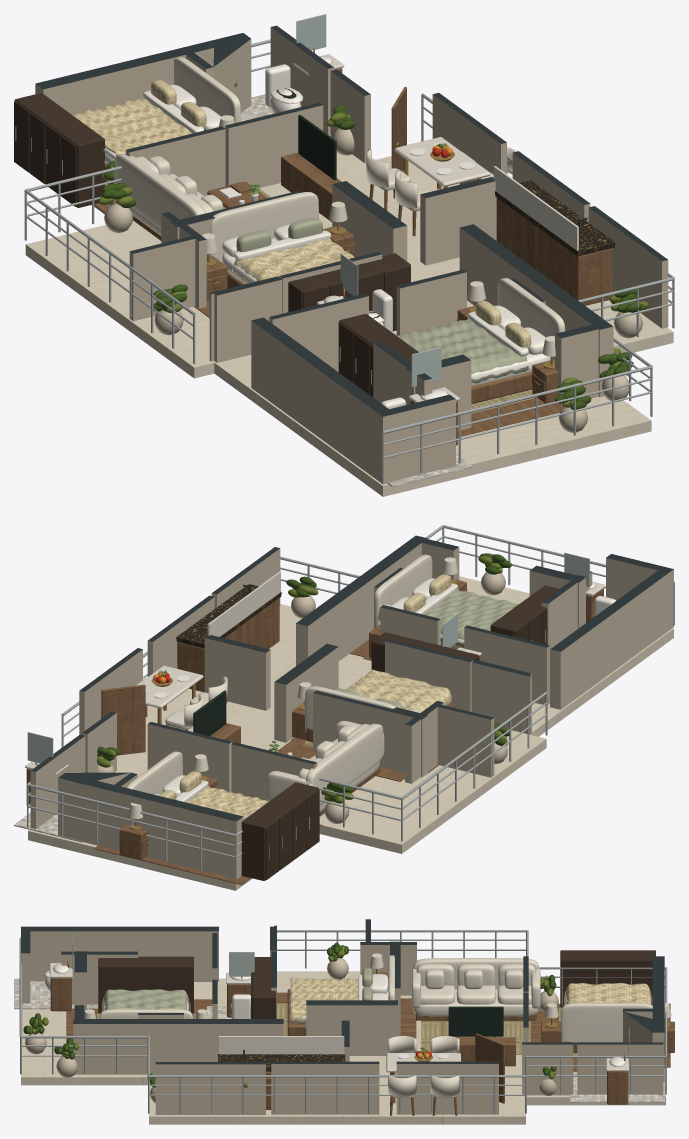
3 renders of one model, top to bottom at view 1: azimuth 30°, elevation 25°; view 2: azimuth 150°, elevation 25°; view 3: azimuth 270°, elevation 25°, orthographic. The views are drawn at different scales.
Parts seen in each view (by area): view 1: Source-traced internal and perimeter walls • Wall, Continuous apartment foundation, Base cabinets, Soft jacquard duvet with folds.002, Soft jacquard duvet with folds, Padded headboard.001, Fitted dark wardrobe, Sofa back, Soft jacquard duvet with folds.001, Backsplash, Padded headboard, Padded headboard.002 (+26 smaller); view 2: Source-traced internal and perimeter walls • Wall, Continuous apartment foundation, Sofa back, Fitted dark wardrobe, Soft jacquard duvet with folds.001, Oak entrance door, Base cabinets, Soft jacquard duvet with folds.002, Padded headboard.002, Backsplash, Soft jacquard duvet with folds, Fitted dark wardrobe.002 (+18 smaller); view 3: Source-traced internal and perimeter walls • Wall, Continuous apartment foundation, Fitted dark wardrobe.002, Fitted dark wardrobe, Padded headboard, Backsplash, Soft jacquard duvet with folds.001, Television, Soft jacquard duvet with folds.002, Soft jacquard duvet with folds, Fitted dark wardrobe.001, Living patterned carpet (+50 smaller).
Part boxes in pixels (x1=…): Source-traced internal and perimeter walls • Wall: x1=35, y1=25, x2=668, y2=484; Continuous apartment foundation: x1=25, y1=152, x2=673, y2=496; Base cabinets: x1=496, y1=198, x2=613, y2=305; Soft jacquard duvet with folds.002: x1=396, y1=318, x2=528, y2=383; Soft jacquard duvet with folds: x1=72, y1=97, x2=192, y2=155; Padded headboard.001: x1=210, y1=192, x2=318, y2=262; Fitted dark wardrobe: x1=14, y1=93, x2=104, y2=207; Sofa back: x1=115, y1=153, x2=204, y2=228; Soft jacquard duvet with folds.001: x1=231, y1=238, x2=354, y2=283; Backsplash: x1=493, y1=166, x2=578, y2=250; Padded headboard: x1=174, y1=57, x2=240, y2=122; Padded headboard.002: x1=497, y1=278, x2=565, y2=359; Source-traced internal and perimeter walls • Wall: x1=30, y1=535, x2=673, y2=879; Continuous apartment foundation: x1=28, y1=576, x2=673, y2=890; Sofa back: x1=305, y1=723, x2=383, y2=805; Fitted dark wardrobe: x1=241, y1=782, x2=318, y2=880; Soft jacquard duvet with folds.001: x1=346, y1=669, x2=453, y2=711; Oak entrance door: x1=101, y1=684, x2=145, y2=755; Base cabinets: x1=178, y1=598, x2=279, y2=692; Soft jacquard duvet with folds.002: x1=424, y1=589, x2=518, y2=647; Padded headboard.002: x1=374, y1=554, x2=432, y2=628; Backsplash: x1=207, y1=571, x2=280, y2=636; Soft jacquard duvet with folds: x1=187, y1=786, x2=269, y2=819; Fitted dark wardrobe.002: x1=490, y1=585, x2=559, y2=636; Source-traced internal and perimeter walls • Wall: x1=21, y1=919, x2=664, y2=1114; Continuous apartment foundation: x1=21, y1=971, x2=665, y2=1124; Fitted dark wardrobe.002: x1=98, y1=956, x2=193, y2=1013; Fitted dark wardrobe: x1=560, y1=950, x2=655, y2=1007; Padded headboard: x1=561, y1=1003, x2=652, y2=1042; Backsplash: x1=219, y1=1036, x2=344, y2=1054; Soft jacquard duvet with folds.001: x1=290, y1=977, x2=357, y2=1023; Television: x1=448, y1=1006, x2=503, y2=1036; Soft jacquard duvet with folds.002: x1=102, y1=989, x2=189, y2=1010; Soft jacquard duvet with folds: x1=564, y1=983, x2=651, y2=1004; Fitted dark wardrobe.001: x1=252, y1=957, x2=276, y2=1018; Living patterned carpet: x1=421, y1=1020, x2=530, y2=1054.
Bounding box in the file's own units: 7.1 × 1.7 × 13.26.
Materials: 26 (6 with a texture image).
